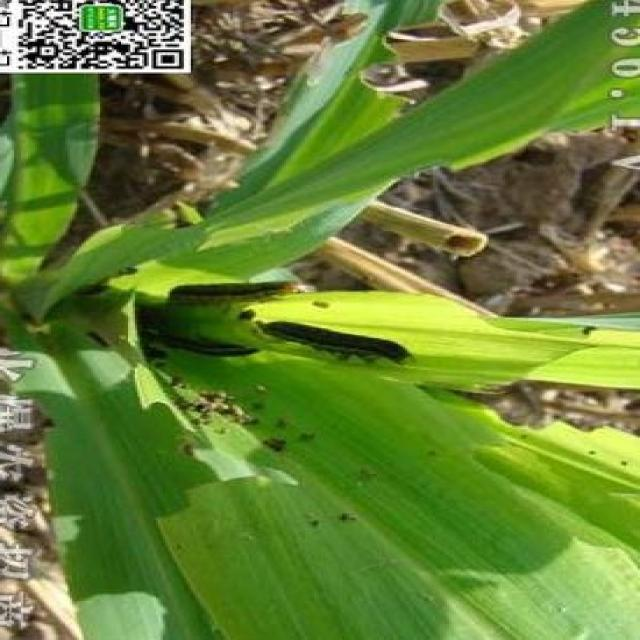army worm: (245, 321, 424, 360), (166, 280, 297, 312)
